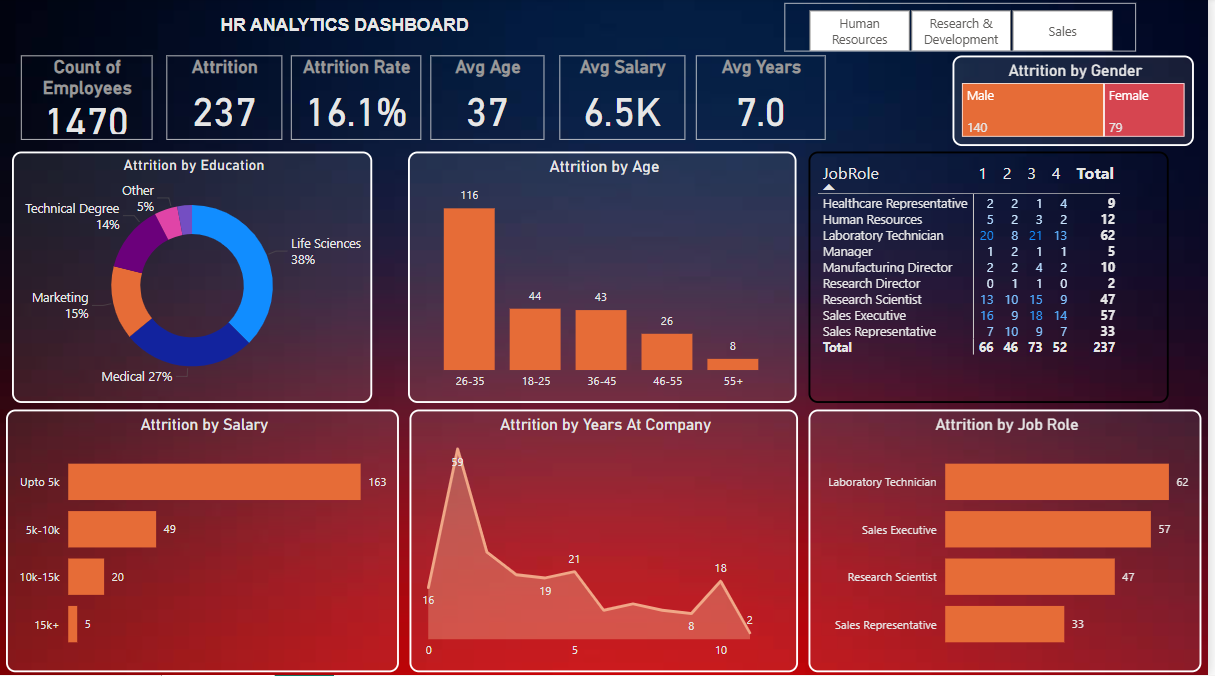

This screenshot's page, from the dashboard's own definition file:
{"tool":"powerbi","page":{"name":"Page 1","canvas":[1280,720],"ordinal":0},"visuals":[{"type":"card","title":"Count of Employees","fields":{"Values":["CountNonNull(HR_Analytics.EmpID)"]},"box":[23.1,62.1,139.2,89.6],"z":0},{"type":"card","title":"Attrition Rate","fields":{"Values":["HR_Analytics.AttritionRate"]},"box":[308.6,62.1,138.3,89.6],"z":1000},{"type":"card","title":"Avg Salary","fields":{"Values":["Avg(HR_Analytics.MonthlyIncome)"]},"box":[593.2,62.1,133,89.6],"z":2000},{"type":"card","title":"Avg Age","fields":{"Values":["Avg(HR_Analytics.Age)"]},"box":[456.7,62.1,120.6,89.6],"z":3000},{"type":"card","title":"Attrition","fields":{"Values":["Sum(HR_Analytics.AttritionCount)"]},"box":[177.3,62.1,122.4,89.6],"z":4000},{"type":"card","title":"Avg Years","fields":{"Values":["Avg(HR_Analytics.YearsAtCompany)"]},"box":[737.7,62.1,137.4,89.6],"z":5000},{"type":"donutChart","title":"Attrition by Education","fields":{"Category":["HR_Analytics.EducationField"],"Y":["Sum(HR_Analytics.AttritionCount)"]},"box":[13.3,164,382.2,266.9],"z":6000},{"type":"columnChart","title":"Attrition by Age","fields":{"Category":["HR_Analytics.AgeGroup"],"Y":["Sum(HR_Analytics.AttritionCount)"]},"box":[432.7,164,412.3,266.9],"z":7000},{"type":"pivotTable","fields":{"Rows":["HR_Analytics.JobRole"],"Columns":["HR_Analytics.JobSatisfaction"],"Values":["Sum(HR_Analytics.AttritionCount)"]},"box":[856.6,164,382.2,266.9],"z":8000},{"type":"clusteredBarChart","title":"Attrition by Salary","fields":{"Category":["HR_Analytics.SalarySlab"],"Y":["Sum(HR_Analytics.AttritionCount)"]},"box":[5.7,438,416.7,278.4],"z":9000},{"type":"clusteredBarChart","title":"Attrition by Job Role","fields":{"Y":["Sum(HR_Analytics.AttritionCount)"],"Category":["HR_Analytics.JobRole"]},"box":[856.6,438,416.7,278.4],"z":10000},{"type":"areaChart","title":"Attrition by Years At Company","fields":{"Category":["HR_Analytics.YearsAtCompany"],"Y":["Sum(HR_Analytics.AttritionCount)"]},"box":[433.5,438,412,278.4],"z":11000},{"type":"treemap","title":"Attrition by Gender","fields":{"Group":["HR_Analytics.Gender"],"Values":["Sum(HR_Analytics.AttritionCount)"]},"box":[1010,62.1,256.3,95.8],"z":12000},{"type":"slicer","fields":{"Values":["HR_Analytics.Department"]},"box":[831.7,7.1,372.4,51.4],"z":13000},{"type":"textbox","box":[5.3,14.2,720.9,37.2],"z":13001}]}

Visuals, with their boxes in screenshot pixels (x1, y1, x2, y2), scaled from the page's 1280x720 canvas onto the 1215x676 screenshot:
"Count of Employees" card: bbox=(22, 58, 154, 142)
"Attrition Rate" card: bbox=(293, 58, 424, 142)
"Avg Salary" card: bbox=(563, 58, 689, 142)
"Avg Age" card: bbox=(434, 58, 548, 142)
"Attrition" card: bbox=(168, 58, 284, 142)
"Avg Years" card: bbox=(700, 58, 831, 142)
"Attrition by Education" donutChart: bbox=(13, 154, 375, 405)
"Attrition by Age" columnChart: bbox=(411, 154, 802, 405)
pivotTable - HR_Analytics.JobRole x HR_Analytics.JobSatisfaction: bbox=(813, 154, 1176, 405)
"Attrition by Salary" clusteredBarChart: bbox=(5, 411, 401, 673)
"Attrition by Job Role" clusteredBarChart: bbox=(813, 411, 1209, 673)
"Attrition by Years At Company" areaChart: bbox=(411, 411, 803, 673)
"Attrition by Gender" treemap: bbox=(959, 58, 1202, 148)
slicer - HR_Analytics.Department: bbox=(789, 7, 1143, 55)
textbox: bbox=(5, 13, 689, 48)
